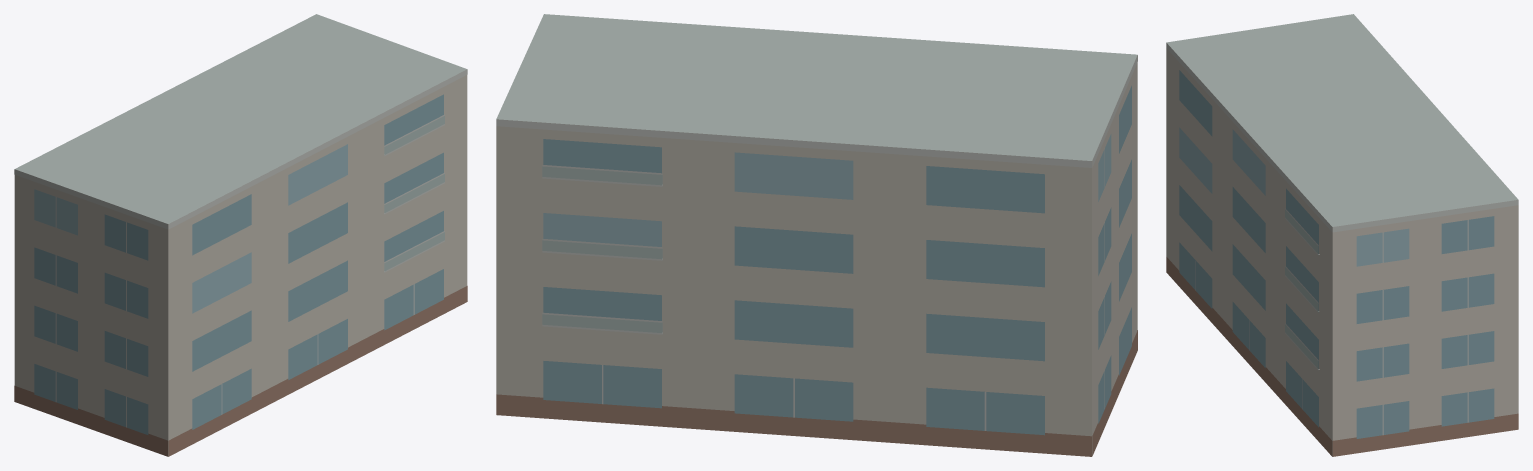
The model's file is survey-upis-32571623.glb.
3 views of the same model, side by side, from view 1: azimuth 30°, elevation 25°; view 2: azimuth 150°, elevation 25°; view 3: azimuth 270°, elevation 25° (orthographic). The views are drawn at different scales.
Parts seen in each view (by area): view 1: survey-upis-32571623.tmp; view 2: survey-upis-32571623.tmp; view 3: survey-upis-32571623.tmp.
Part boxes in pixels (<box>): survey-upis-32571623.tmp: <box>14,14,467,456</box>; survey-upis-32571623.tmp: <box>496,14,1137,456</box>; survey-upis-32571623.tmp: <box>1166,14,1518,456</box>.
Size of the model in its own units: 20.69 by 10.4 by 14.46.
